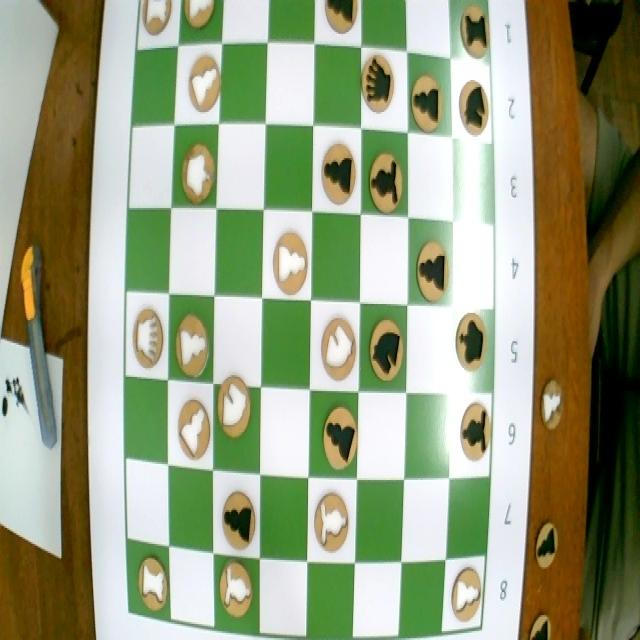chess-pieces: (312, 392, 358, 478), (215, 474, 260, 559), (129, 530, 171, 619), (168, 379, 213, 462), (266, 219, 312, 299), (169, 294, 211, 381), (308, 474, 352, 555), (411, 230, 455, 308), (214, 553, 258, 629), (447, 556, 488, 634), (318, 138, 361, 212), (126, 298, 166, 376), (365, 307, 406, 383), (363, 141, 405, 215), (360, 50, 402, 121), (214, 371, 256, 442), (322, 317, 362, 387), (180, 53, 222, 118), (453, 308, 491, 379), (454, 77, 494, 138), (178, 143, 216, 207), (410, 74, 447, 136), (456, 2, 494, 62), (459, 400, 490, 468), (181, 0, 220, 40), (321, 0, 361, 37), (139, 0, 171, 41)
